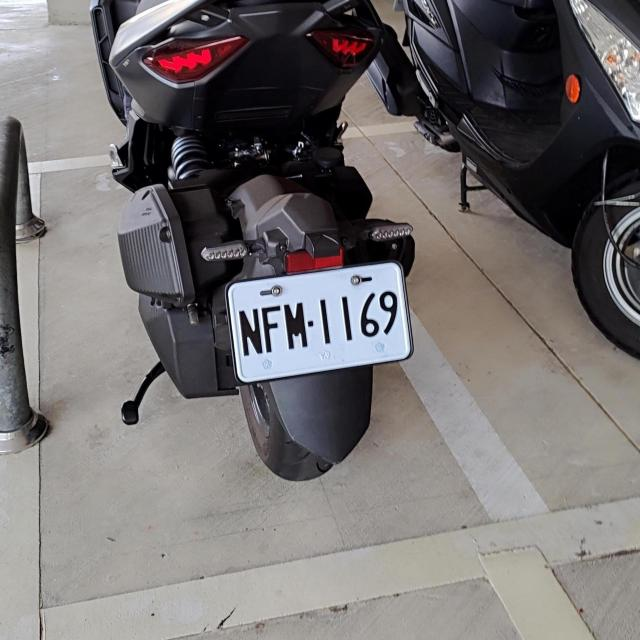W: (226, 260, 416, 382)
